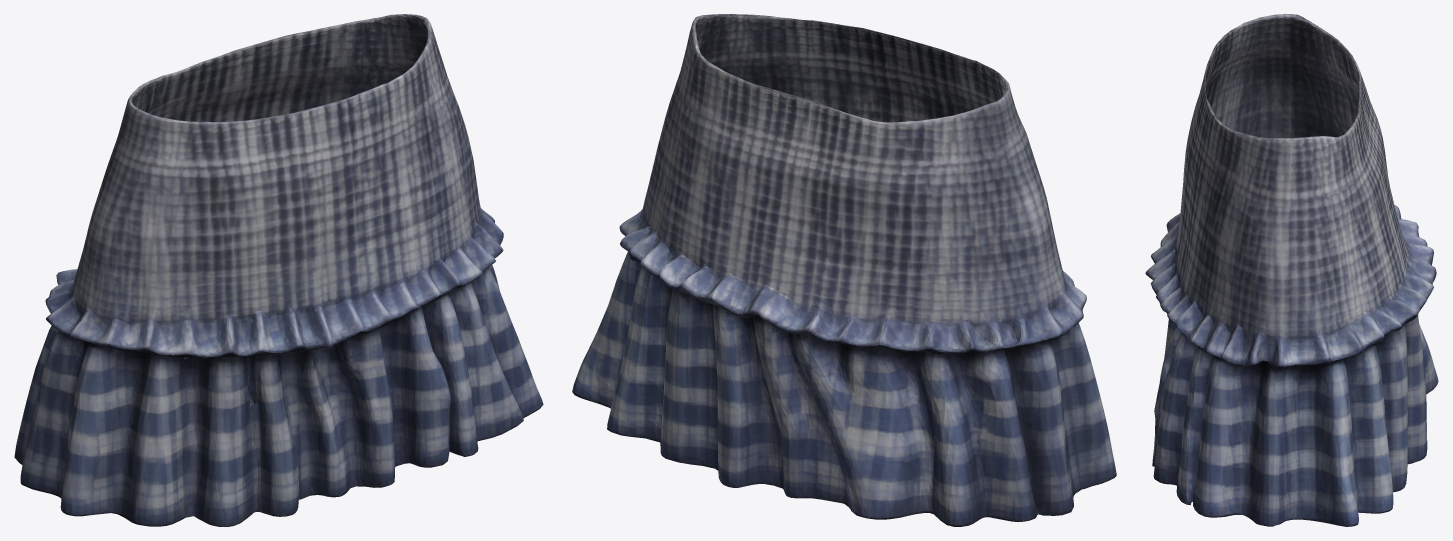
Rendered from Skirt.glb.
3 views of the same model, side by side, from view 1: azimuth 30°, elevation 25°; view 2: azimuth 150°, elevation 25°; view 3: azimuth 270°, elevation 25° (orthographic). The views are drawn at different scales.
Visible parts, largest first — view 1: world; view 2: world; view 3: world.
Boxes of the visible parts, bbox=[...] form: world: bbox=[14, 14, 543, 526]; world: bbox=[572, 14, 1116, 526]; world: bbox=[1145, 14, 1438, 526].
Size of the model in its own units: 0.9984 by 0.7904 by 0.5634.
1 material, 1 textured.
